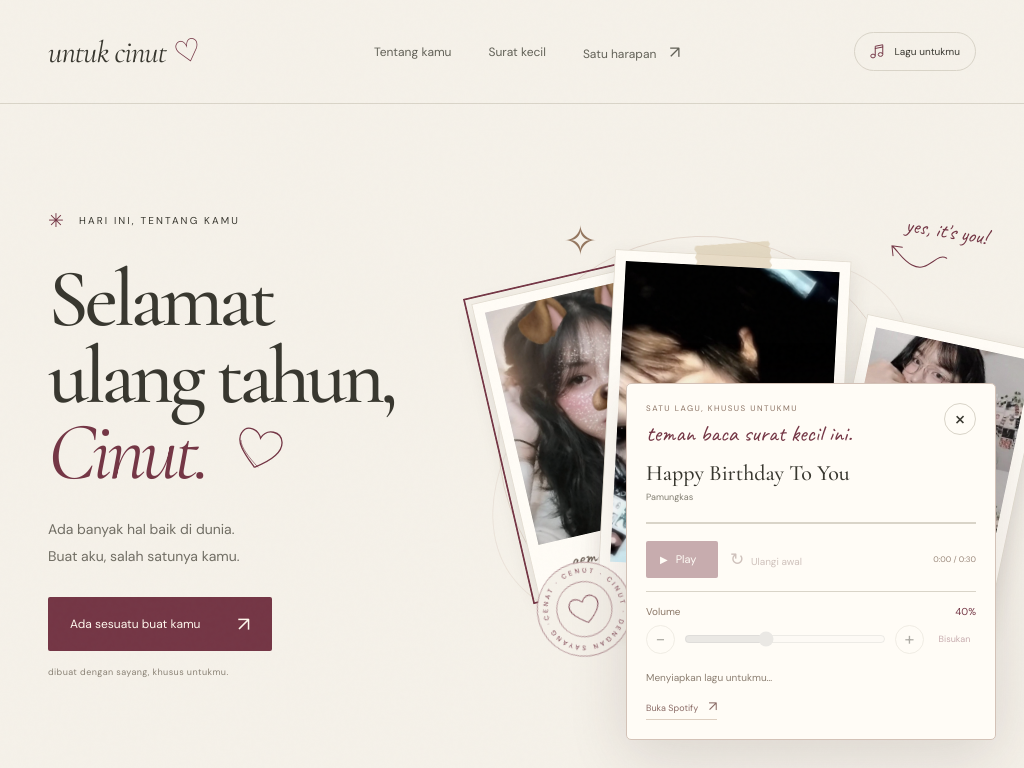
Test: Ucapan ulang tahun Cinut › membuka foto, berpindah dan berputar dengan keyboard, lalu mengembalikan fokus
The image size is (1024, 768).
Step 1. Click the button with aria-label "Lihat foto Cinut dengan filter lucu" → [596, 429], box [472,262,720,596]
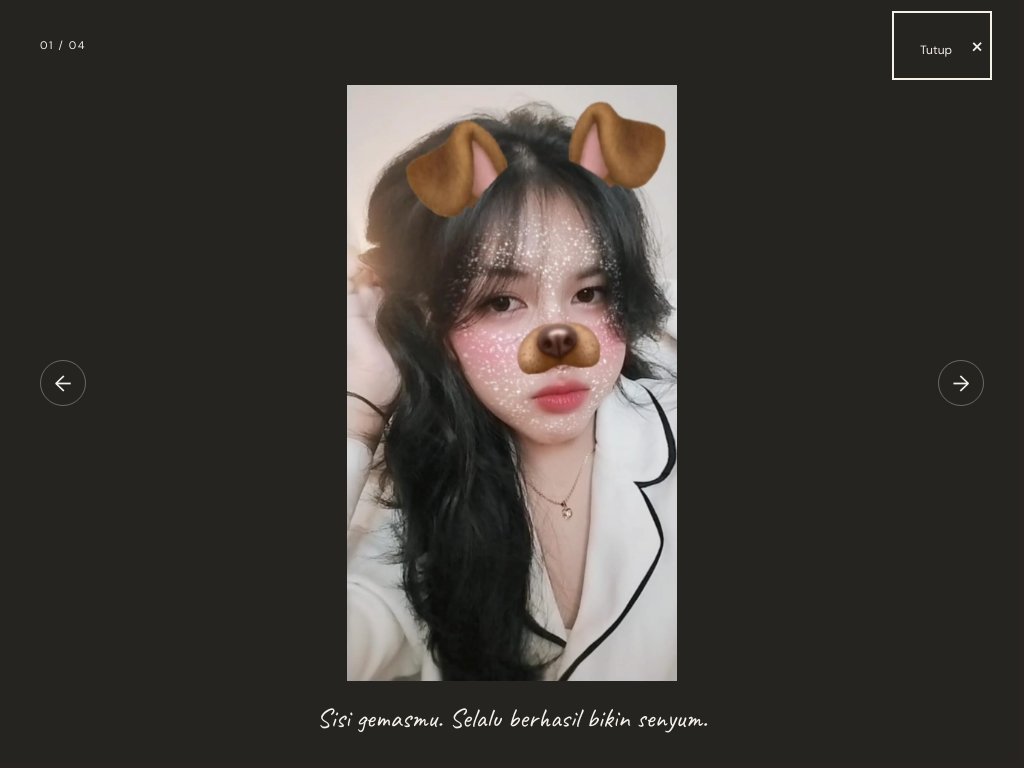
Step 2. Press ArrowLeft in the dialog named "Galeri foto Cinut"
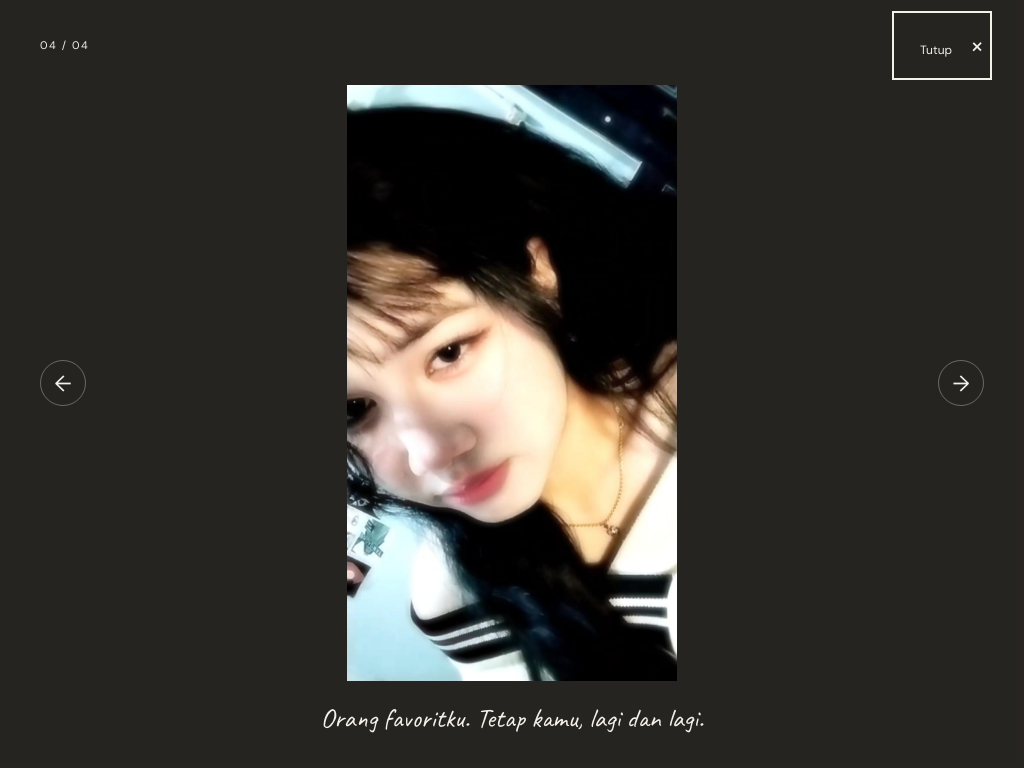
Step 3. Click the button named "Foto berikutnya" → [961, 383], box [938,360,984,406]
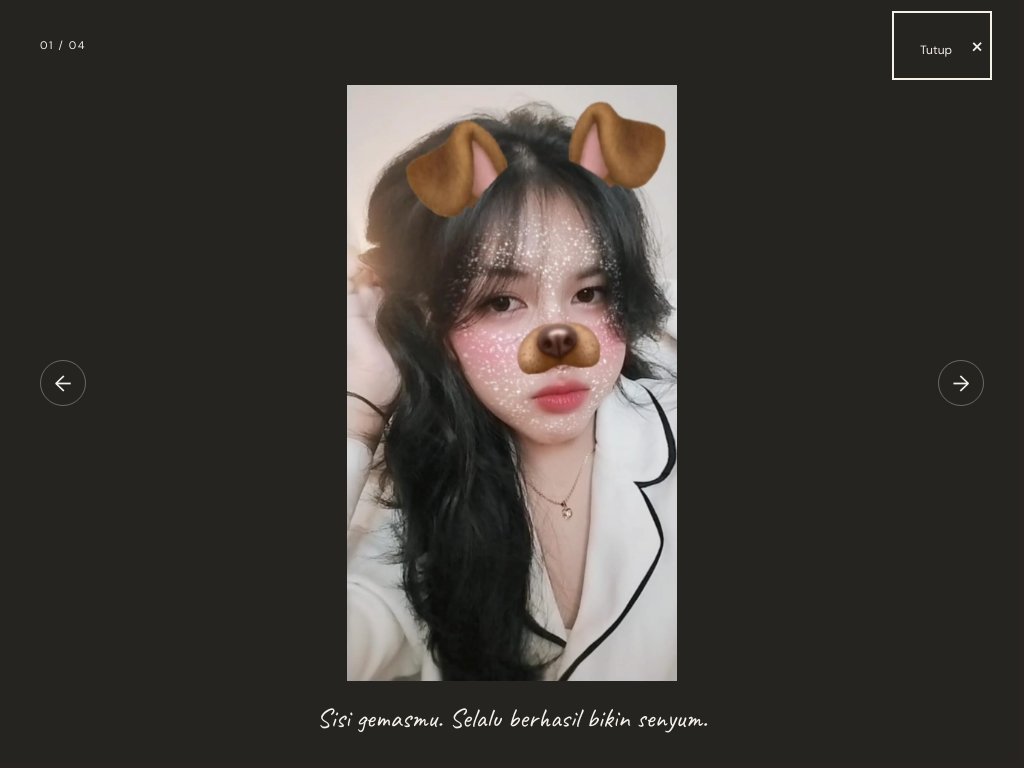
Step 4. Press ArrowRight in the dialog named "Galeri foto Cinut"
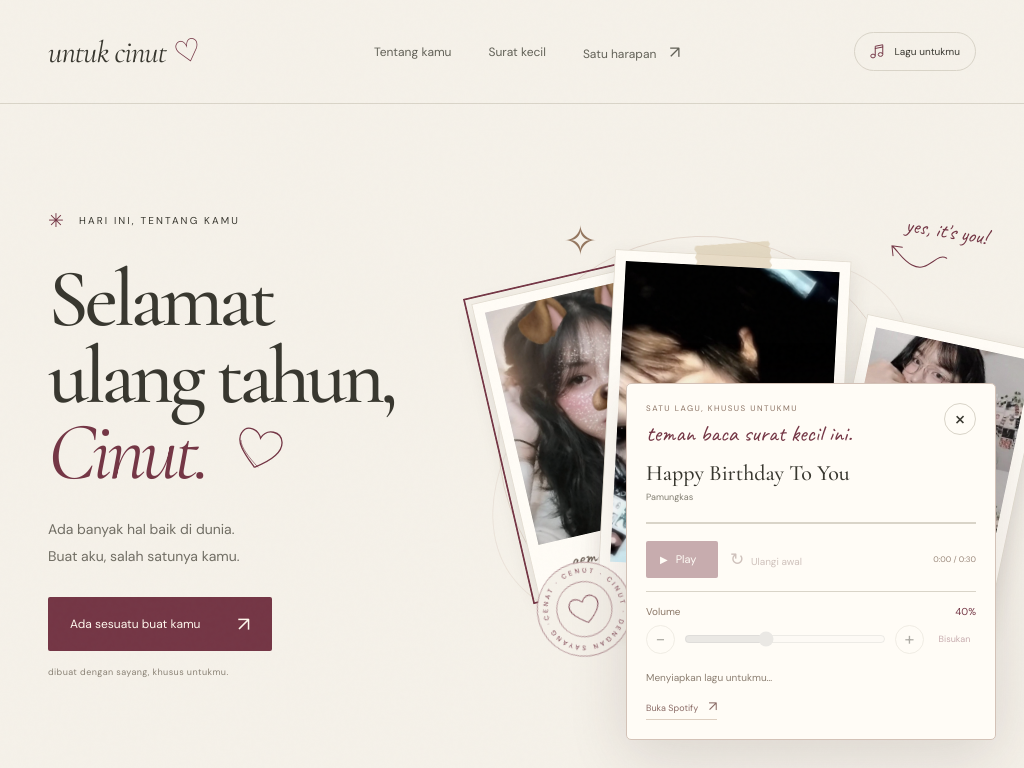
Now the dialog is gone
